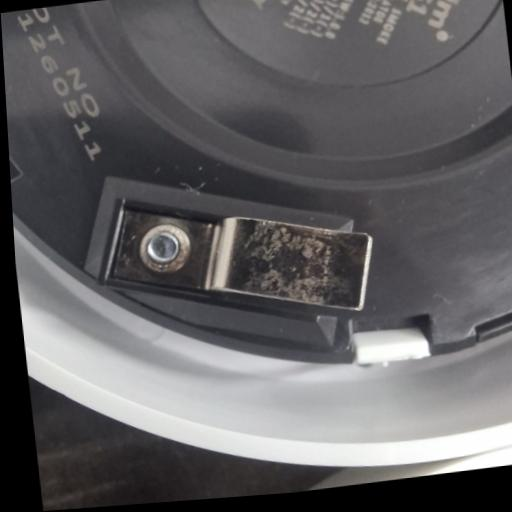yaysiz: (95, 172, 378, 343)
